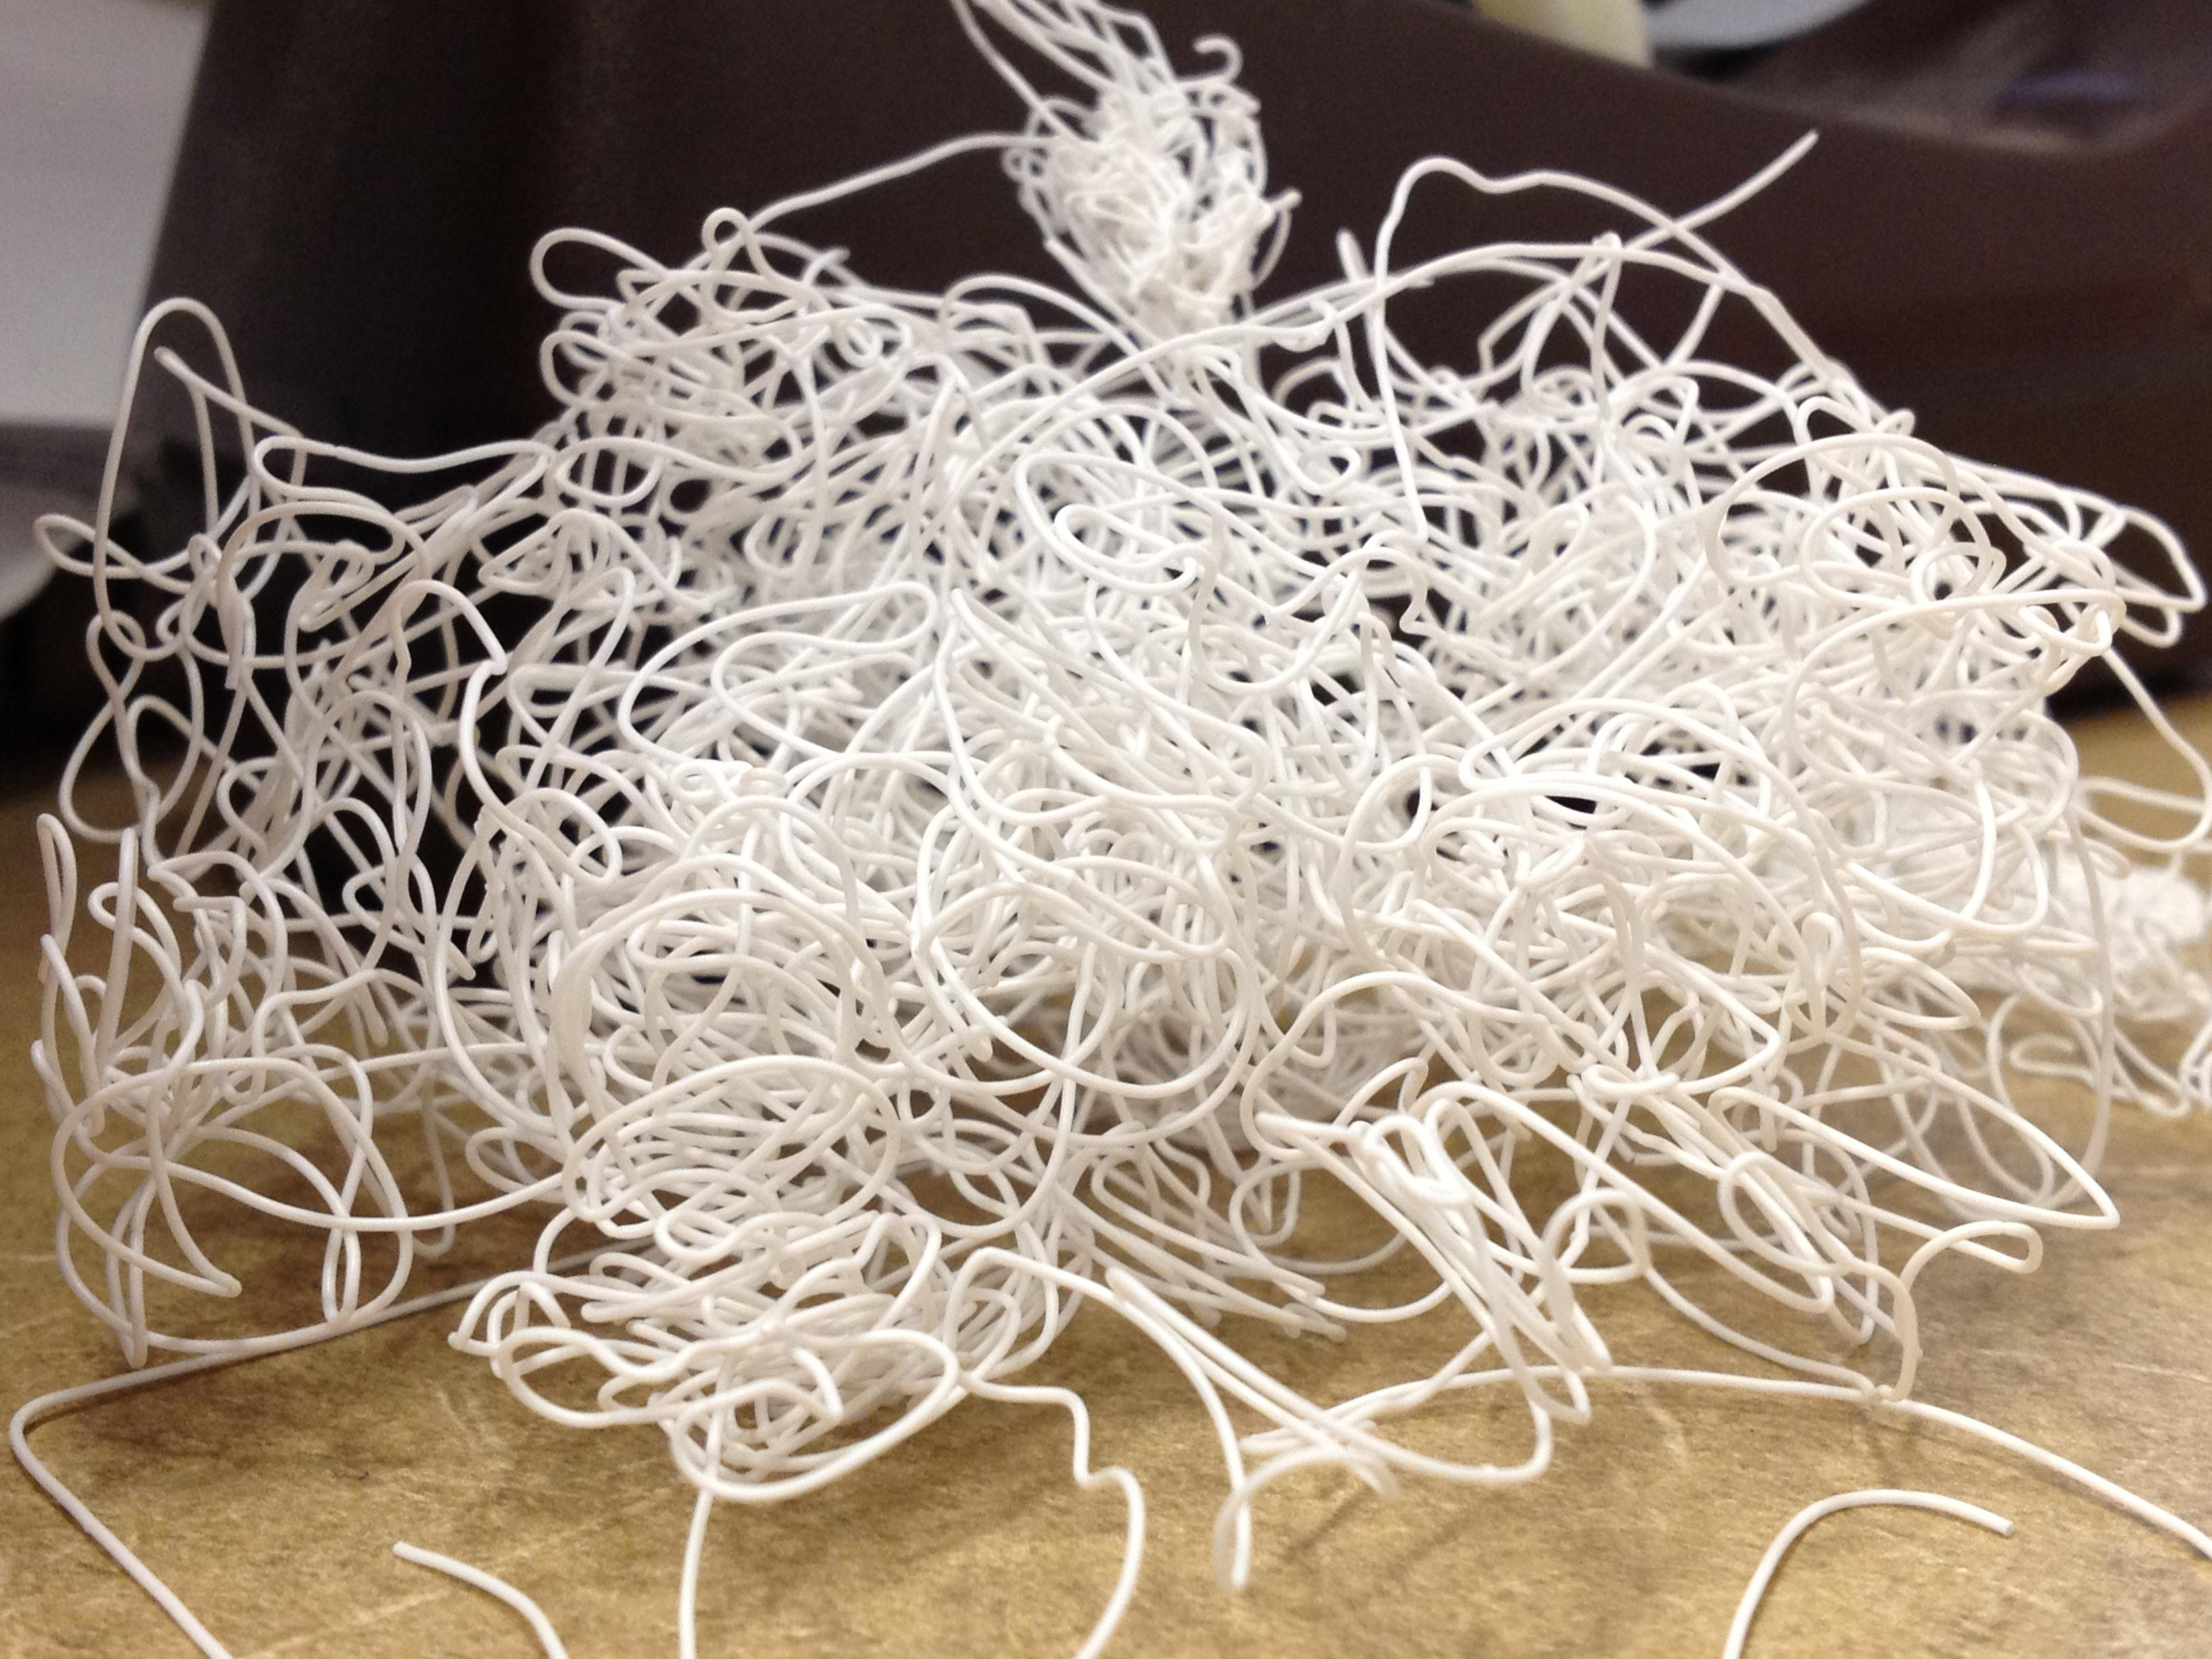Printing-Artifact: (10, 19, 2210, 1554)
